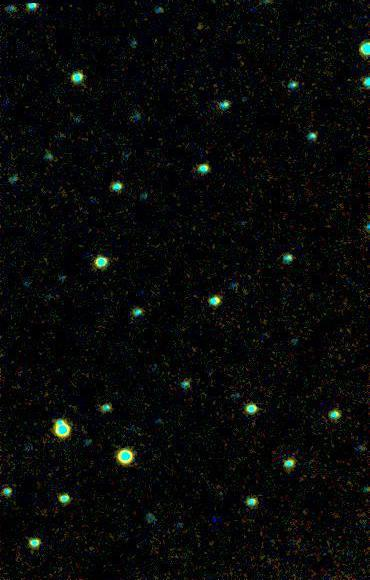star: (185, 11, 215, 41)
